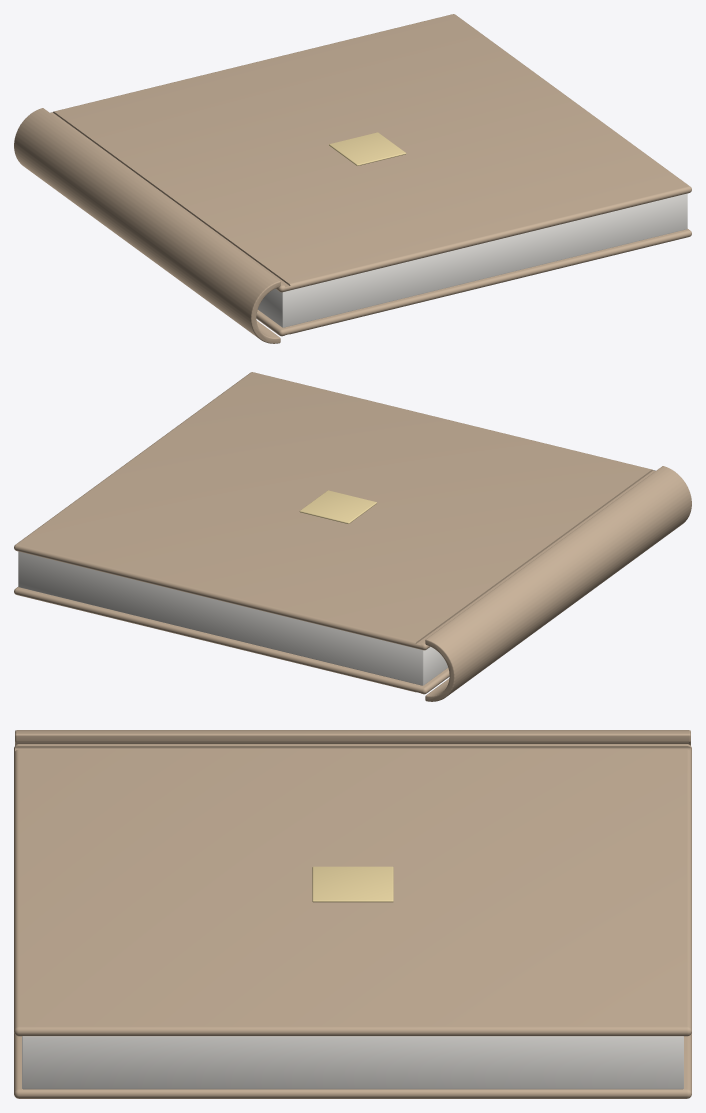
File: plate--square.glb
3 views of the same model, one above another, from view 1: azimuth 30°, elevation 25°; view 2: azimuth 150°, elevation 25°; view 3: azimuth 270°, elevation 25° (orthographic). The views are drawn at different scales.
Parts seen in each view (by area): view 1: CoverFront, Spine, Pages, CoverBack, Plate; view 2: CoverFront, Spine, Pages, CoverBack, Plate; view 3: CoverFront, Pages, Spine, CoverBack, Plate.
Boxes of the visible parts, x1=… form: CoverFront: x1=50, y1=14, x2=691, y2=292; Spine: x1=14, y1=108, x2=280, y2=343; Pages: x1=258, y1=193, x2=687, y2=327; CoverBack: x1=256, y1=229, x2=691, y2=336; Plate: x1=329, y1=132, x2=406, y2=165; CoverFront: x1=14, y1=372, x2=655, y2=650; Spine: x1=425, y1=466, x2=691, y2=701; Pages: x1=18, y1=551, x2=447, y2=685; CoverBack: x1=14, y1=587, x2=449, y2=694; Plate: x1=299, y1=490, x2=376, y2=523; CoverFront: x1=14, y1=744, x2=691, y2=1036; Pages: x1=22, y1=1036, x2=683, y2=1089; Spine: x1=15, y1=730, x2=690, y2=745; CoverBack: x1=14, y1=1033, x2=691, y2=1098; Plate: x1=312, y1=866, x2=393, y2=902.
Bounding box in the file's own units: 0.3208 × 0.043 × 0.3.
